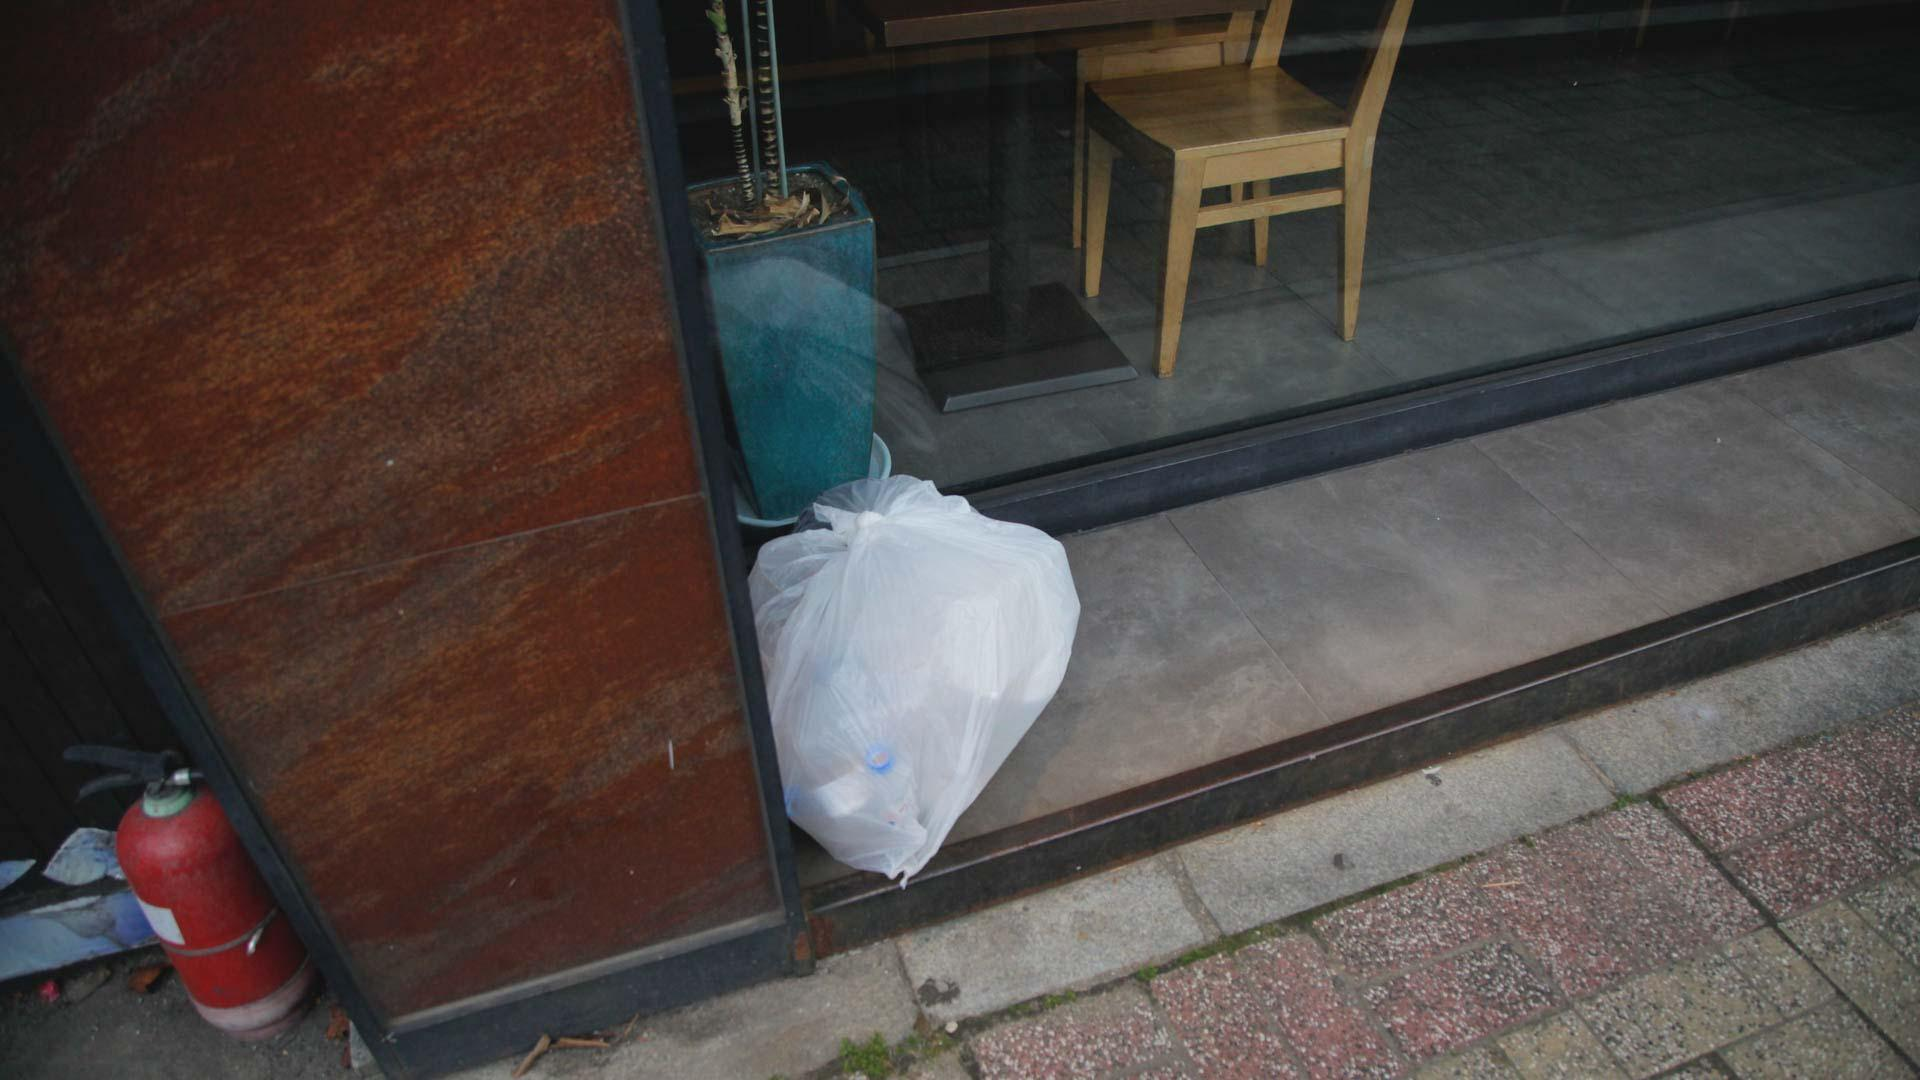white_bag: (717, 450, 1095, 899)
